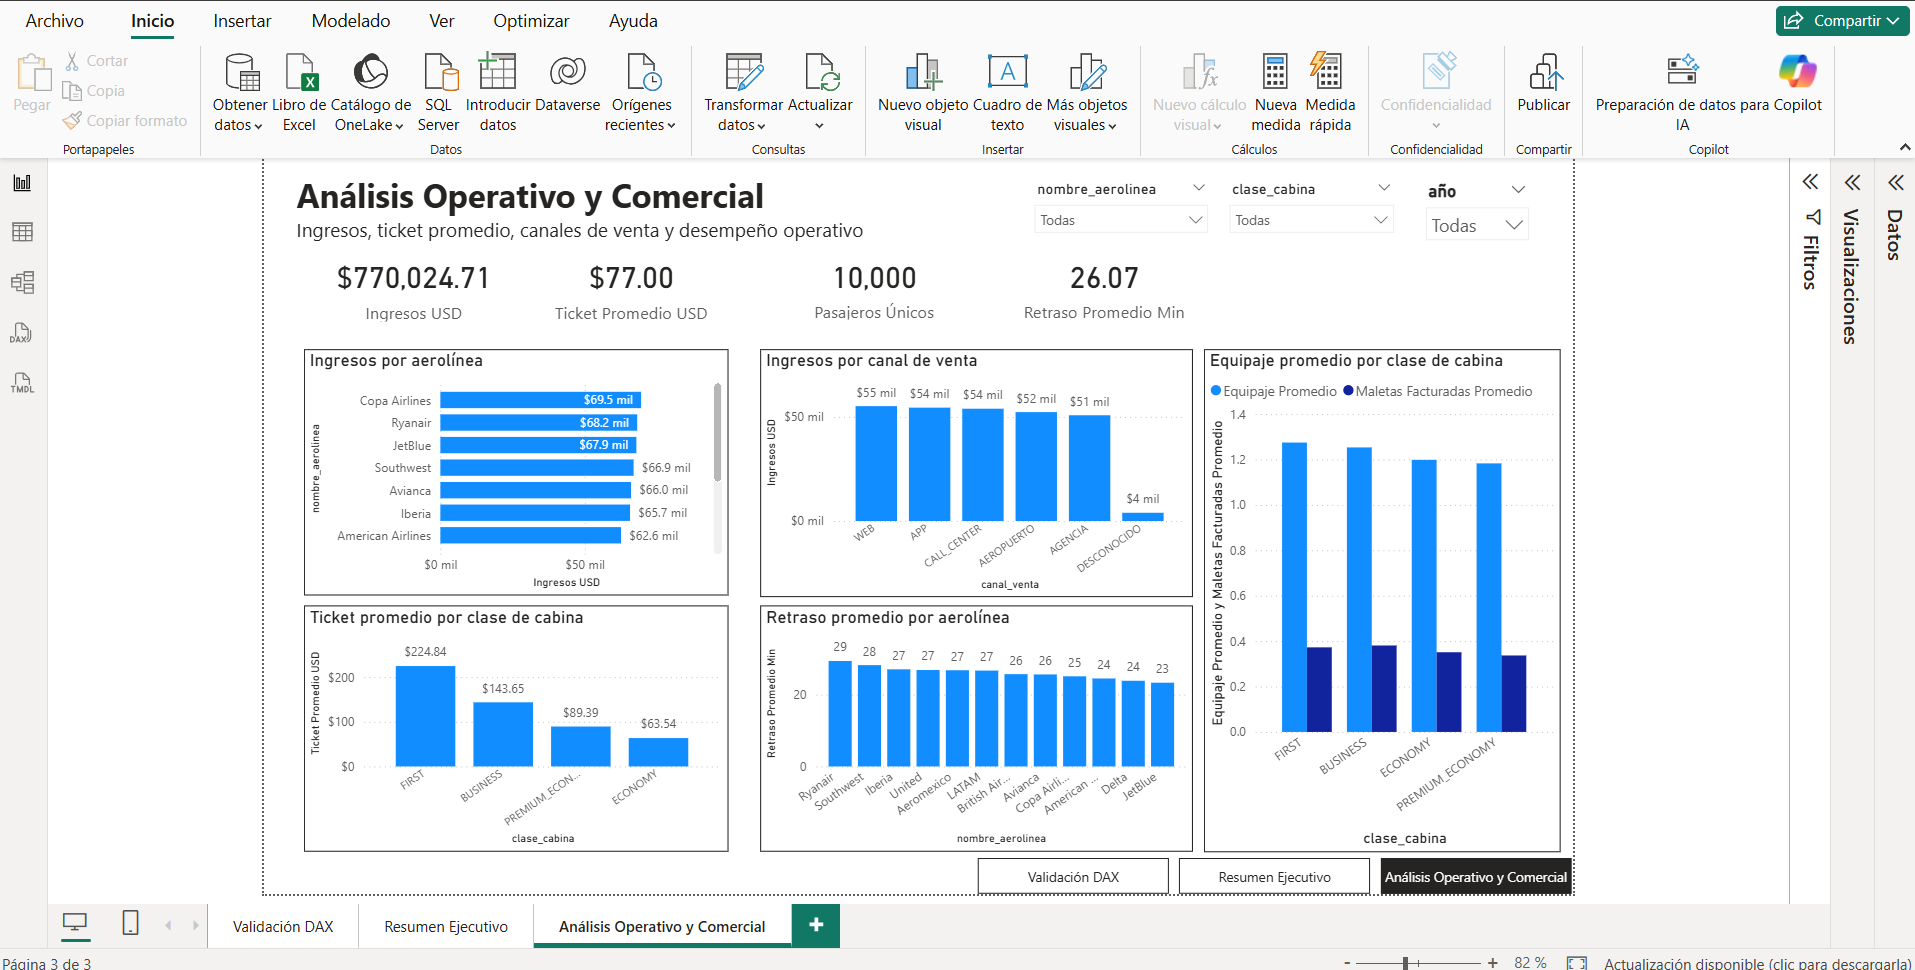

Layout of this report page (visuals, bound fields, positions):
{"tool":"powerbi","page":{"name":"Análisis Operativo y Comercial","canvas":[1280,720],"ordinal":2},"visuals":[{"type":"textbox","box":[26.7,9.4,580.4,91.2],"z":0},{"type":"card","fields":{"Values":["00 Medidas.Ingresos USD"]},"box":[39.2,87.6,215.5,77.1],"z":1000},{"type":"card","fields":{"Values":["00 Medidas.Retraso Promedio Min"]},"box":[723.4,89.2,196.6,73.9],"z":2000},{"type":"slicer","fields":{"Values":["dw DimFechaSalida.anio"]},"box":[1126.2,17.3,121.1,73.9],"z":3000},{"type":"barChart","title":"Ingresos por aerolínea","fields":{"Category":["dw DimAerolinea.nombre_aerolinea"],"Y":["00 Medidas.Ingresos USD"]},"box":[39.2,186.7,415.2,240.6],"z":4000},{"type":"columnChart","title":"Ingresos por canal de venta","fields":{"Category":["dw DimCanalVenta.canal_venta"],"Y":["00 Medidas.Ingresos USD"]},"box":[485.9,186.7,423.1,242.2],"z":5000},{"type":"slicer","fields":{"Values":["dw DimAerolinea.nombre_aerolinea"]},"box":[744,17.3,190.3,78.6],"z":6000},{"type":"slicer","fields":{"Values":["dw DimClaseCabina.clase_cabina"]},"box":[934.3,17.3,180.9,73.9],"z":7000},{"type":"card","fields":{"Values":["00 Medidas.Pasajeros Únicos"]},"box":[496.9,89.2,201.3,73.9],"z":8000},{"type":"card","fields":{"Values":["00 Medidas.Ticket Promedio USD"]},"box":[250,87.6,220.2,77.1],"z":9000},{"type":"columnChart","title":"Ticket promedio por clase de cabina","fields":{"Category":["dw DimClaseCabina.clase_cabina"],"Y":["00 Medidas.Ticket Promedio USD"]},"box":[39.2,438.3,415.2,240.6],"z":10000},{"type":"columnChart","title":"Retraso promedio por aerolínea","fields":{"Category":["dw DimAerolinea.nombre_aerolinea"],"Y":["00 Medidas.Retraso Promedio Min"]},"box":[485.9,438.3,423.1,240.6],"z":11000},{"type":"clusteredColumnChart","title":"Equipaje promedio por clase de cabina","fields":{"Category":["dw DimClaseCabina.clase_cabina"],"Y":["00 Medidas.Equipaje Promedio","00 Medidas.Maletas Facturadas Promedio"]},"box":[920,186.7,349.2,492.3],"z":12000},{"type":"pageNavigator","box":[698.8,685.3,581.2,35.1],"z":13000}]}

Visuals, with their boxes on the page's 1280x720 design canvas (x1, y1, x2, y2). These are canvas units, not pixel positions in the 1915x970 screenshot, which may show the page scaled, cropped or inside an application window:
textbox: bbox=[27, 9, 607, 101]
card - 00 Medidas.Ingresos USD: bbox=[39, 88, 255, 165]
card - 00 Medidas.Retraso Promedio Min: bbox=[723, 89, 920, 163]
slicer - dw DimFechaSalida.anio: bbox=[1126, 17, 1247, 91]
"Ingresos por aerolínea" barChart: bbox=[39, 187, 454, 427]
"Ingresos por canal de venta" columnChart: bbox=[486, 187, 909, 429]
slicer - dw DimAerolinea.nombre_aerolinea: bbox=[744, 17, 934, 96]
slicer - dw DimClaseCabina.clase_cabina: bbox=[934, 17, 1115, 91]
card - 00 Medidas.Pasajeros Únicos: bbox=[497, 89, 698, 163]
card - 00 Medidas.Ticket Promedio USD: bbox=[250, 88, 470, 165]
"Ticket promedio por clase de cabina" columnChart: bbox=[39, 438, 454, 679]
"Retraso promedio por aerolínea" columnChart: bbox=[486, 438, 909, 679]
"Equipaje promedio por clase de cabina" clusteredColumnChart: bbox=[920, 187, 1269, 679]
pageNavigator: bbox=[699, 685, 1280, 720]
